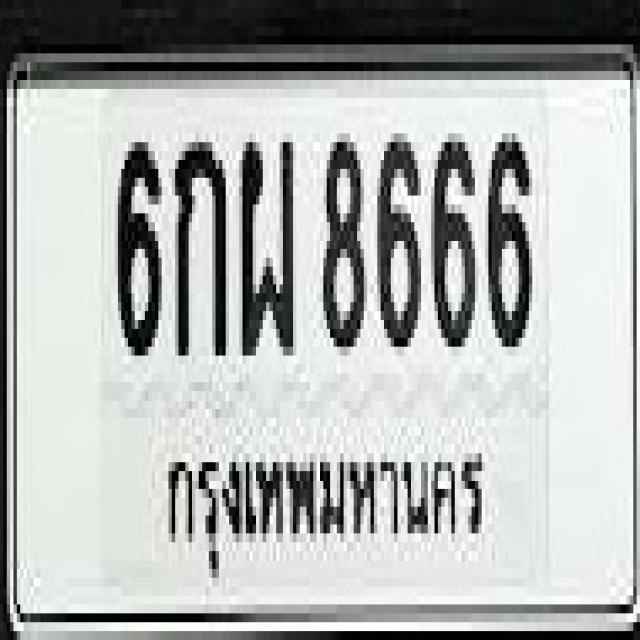license_plate: (6, 46, 640, 640)
